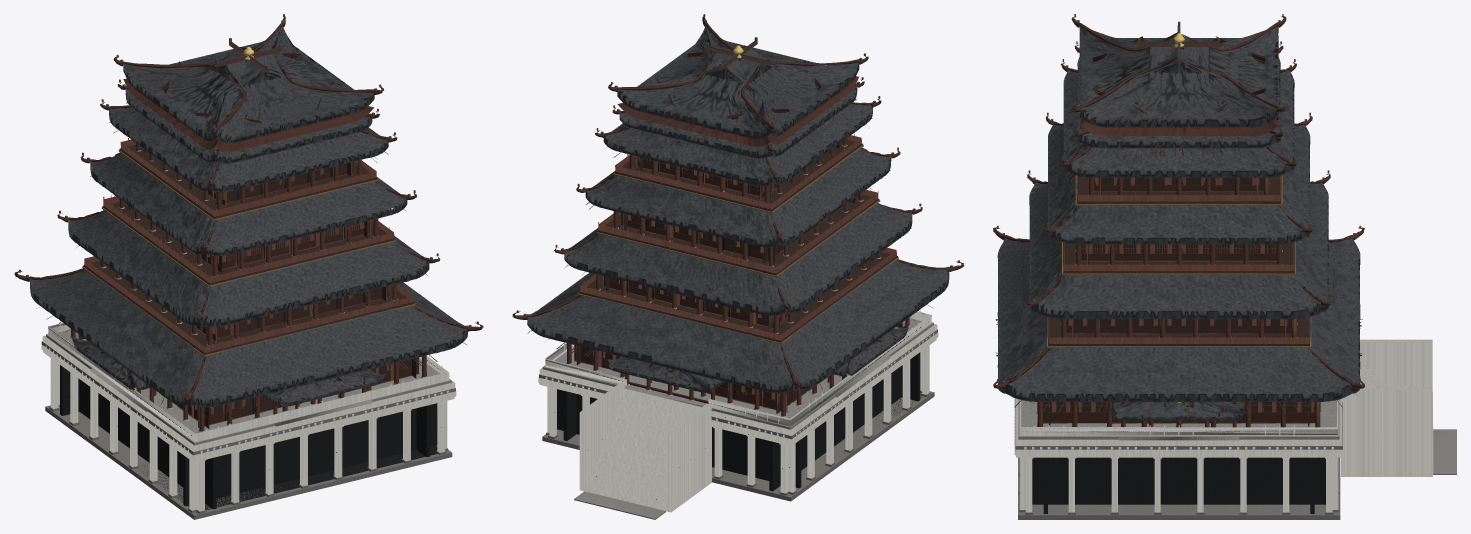
3 views of the same model, side by side, from view 1: azimuth 30°, elevation 25°; view 2: azimuth 150°, elevation 25°; view 3: azimuth 270°, elevation 25° (orthographic). The views are drawn at different scales.
Visible parts, largest first — view 1: Pavilion_Roof, Podium, Pavilion_Body, Pavilion_Detail; view 2: Pavilion_Roof, Podium, Pavilion_Body, Pavilion_Detail, EntranceLanding; view 3: Pavilion_Roof, Podium, Pavilion_Body, Pavilion_Detail, EntranceLanding.
Boxes of the visible parts, x1,y1,x2,y2 form: Pavilion_Roof: (29, 26, 467, 413); Podium: (41, 322, 456, 519); Pavilion_Body: (70, 138, 427, 432); Pavilion_Detail: (14, 14, 483, 401); Pavilion_Roof: (527, 25, 949, 399); Podium: (538, 311, 938, 512); Pavilion_Body: (566, 134, 910, 417); Pavilion_Detail: (512, 14, 964, 387); EntranceLanding: (574, 491, 665, 519); Pavilion_Roof: (995, 25, 1362, 420); Podium: (1014, 339, 1433, 519); Pavilion_Body: (1036, 121, 1321, 440); Pavilion_Detail: (993, 14, 1364, 402); EntranceLanding: (1433, 429, 1456, 474).
Size of the model in its own units: 40.17 by 50 by 50.08.
12 materials, 12 textured.
